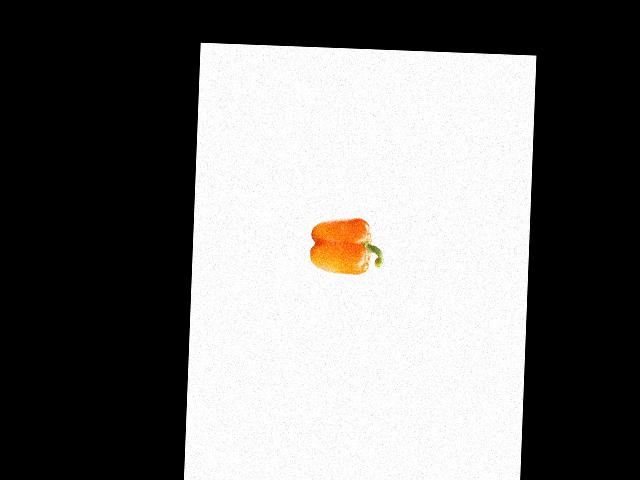bell_pepper: (308, 210, 385, 282)
